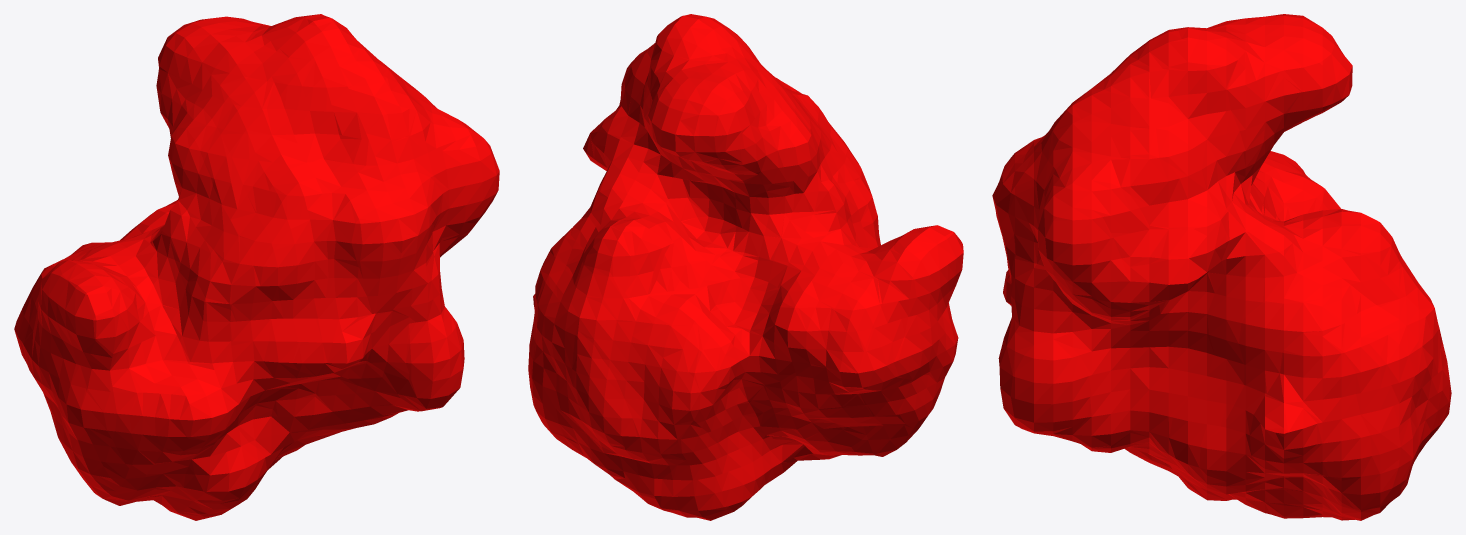
File: gltD_coarse.dae
The picture shows the model from 3 angles, left to right: view 1: azimuth 30°, elevation 25°; view 2: azimuth 150°, elevation 25°; view 3: azimuth 270°, elevation 25°; orthographic projection. The views are drawn at different scales.
Parts seen in each view (by area): view 1: gltD; view 2: gltD; view 3: gltD.
Part boxes in pixels (x1=…): gltD: x1=14, y1=14, x2=499, y2=520; gltD: x1=528, y1=14, x2=963, y2=520; gltD: x1=992, y1=14, x2=1451, y2=520.
Size of the model in its own units: 62.62 by 71.32 by 56.76.
